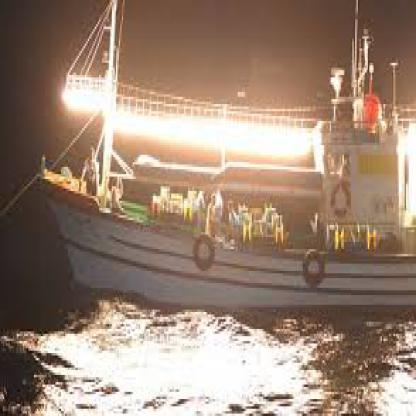fish-b: (34, 0, 415, 332)
